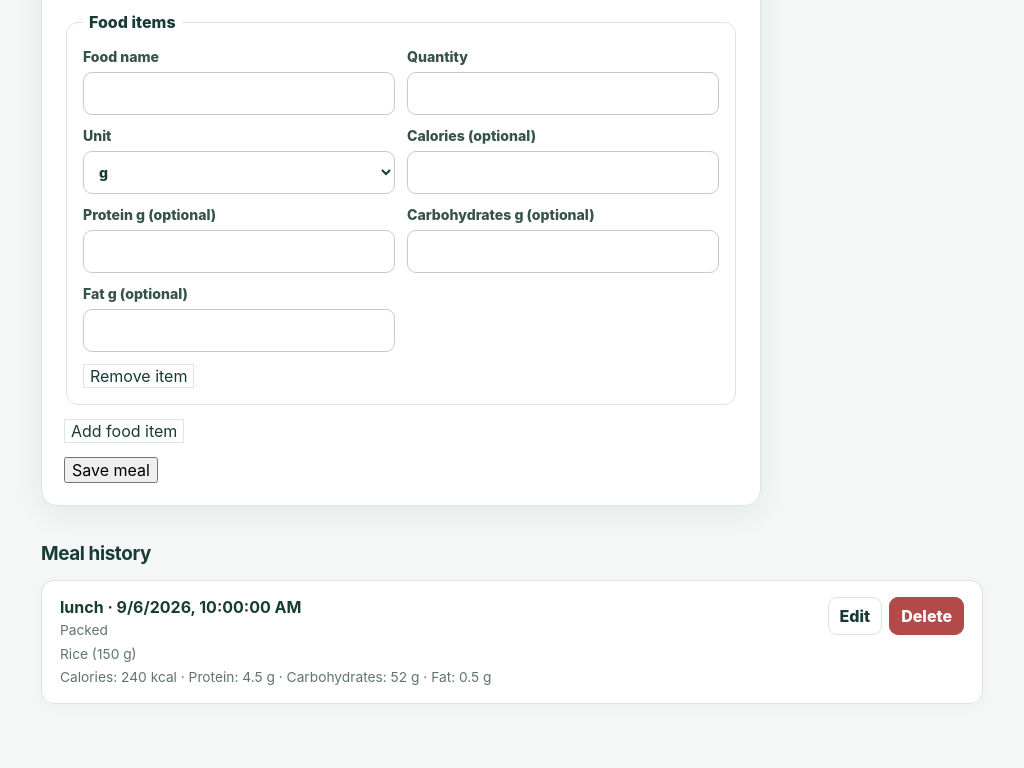
Test: MealsPage › loads an existing meal into the edit form
(page scrolled)
Expected: the text "Rice (150 g)" is shown, [60,646,137,662]
Click the button "Edit".
click(855, 616)  # box [828,597,882,635]
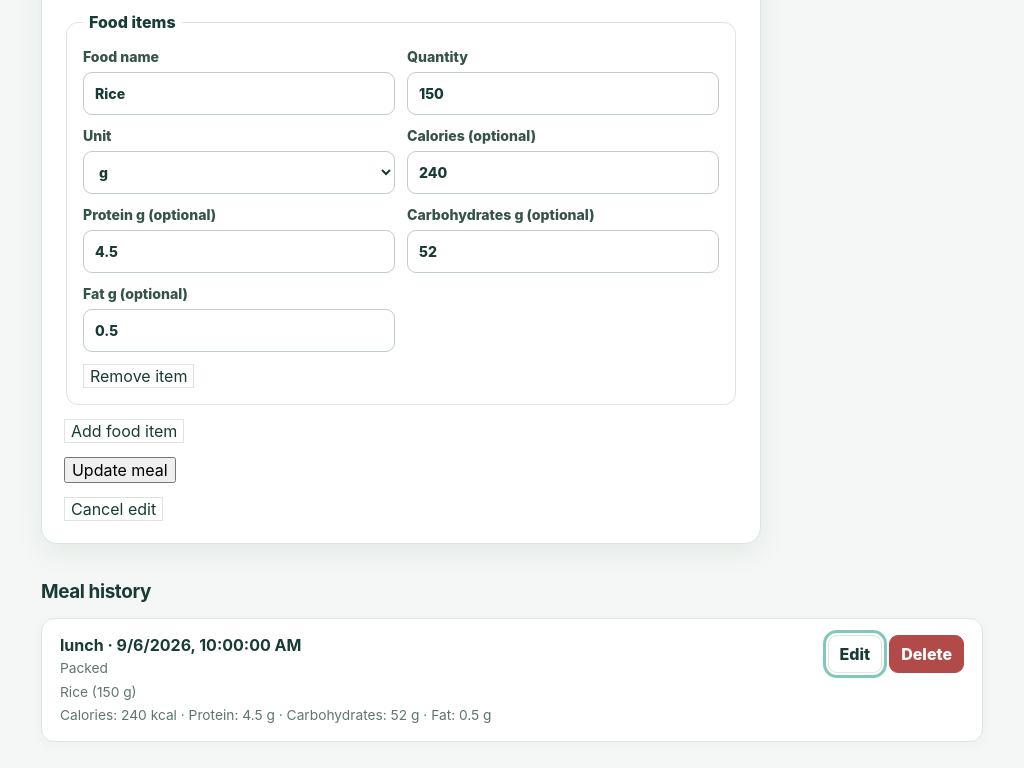
Now the field named "Food name 1" holds "Rice", box [83,72,395,115]
